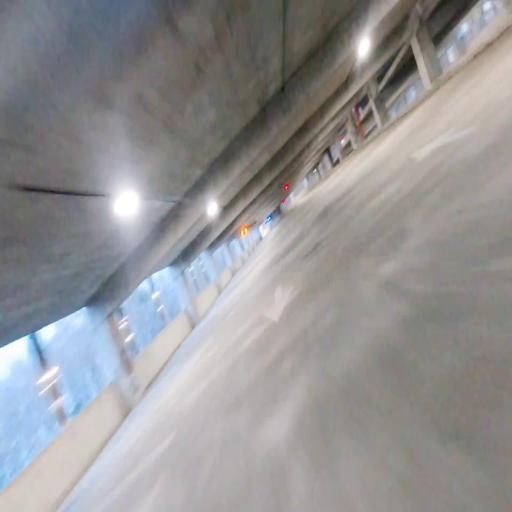uav: (232, 214, 259, 243)
